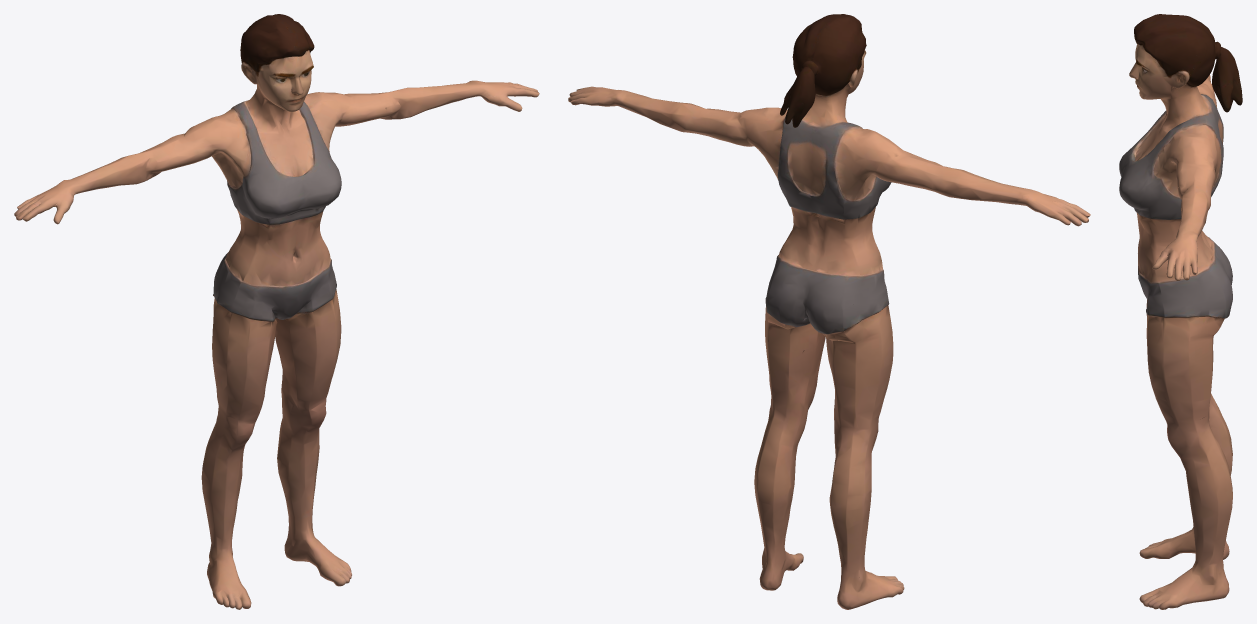
File: body_base_female_idle.glb
3 renders of one model, left to right at view 1: azimuth 30°, elevation 25°; view 2: azimuth 150°, elevation 25°; view 3: azimuth 270°, elevation 25°, orthographic.
Parts seen in each view (by area): view 1: tripo_node_b3ed81c1-60a1-4093-8123-a7d40a26b1fe; view 2: tripo_node_b3ed81c1-60a1-4093-8123-a7d40a26b1fe; view 3: tripo_node_b3ed81c1-60a1-4093-8123-a7d40a26b1fe.
Boxes of the visible parts, x1,y1,x2,y2 form: tripo_node_b3ed81c1-60a1-4093-8123-a7d40a26b1fe: [14, 14, 539, 609]; tripo_node_b3ed81c1-60a1-4093-8123-a7d40a26b1fe: [568, 14, 1090, 609]; tripo_node_b3ed81c1-60a1-4093-8123-a7d40a26b1fe: [1119, 14, 1242, 609].
Bounding box in the file's own units: 1.63 × 1.7 × 0.3377.
1 material, 1 textured.
